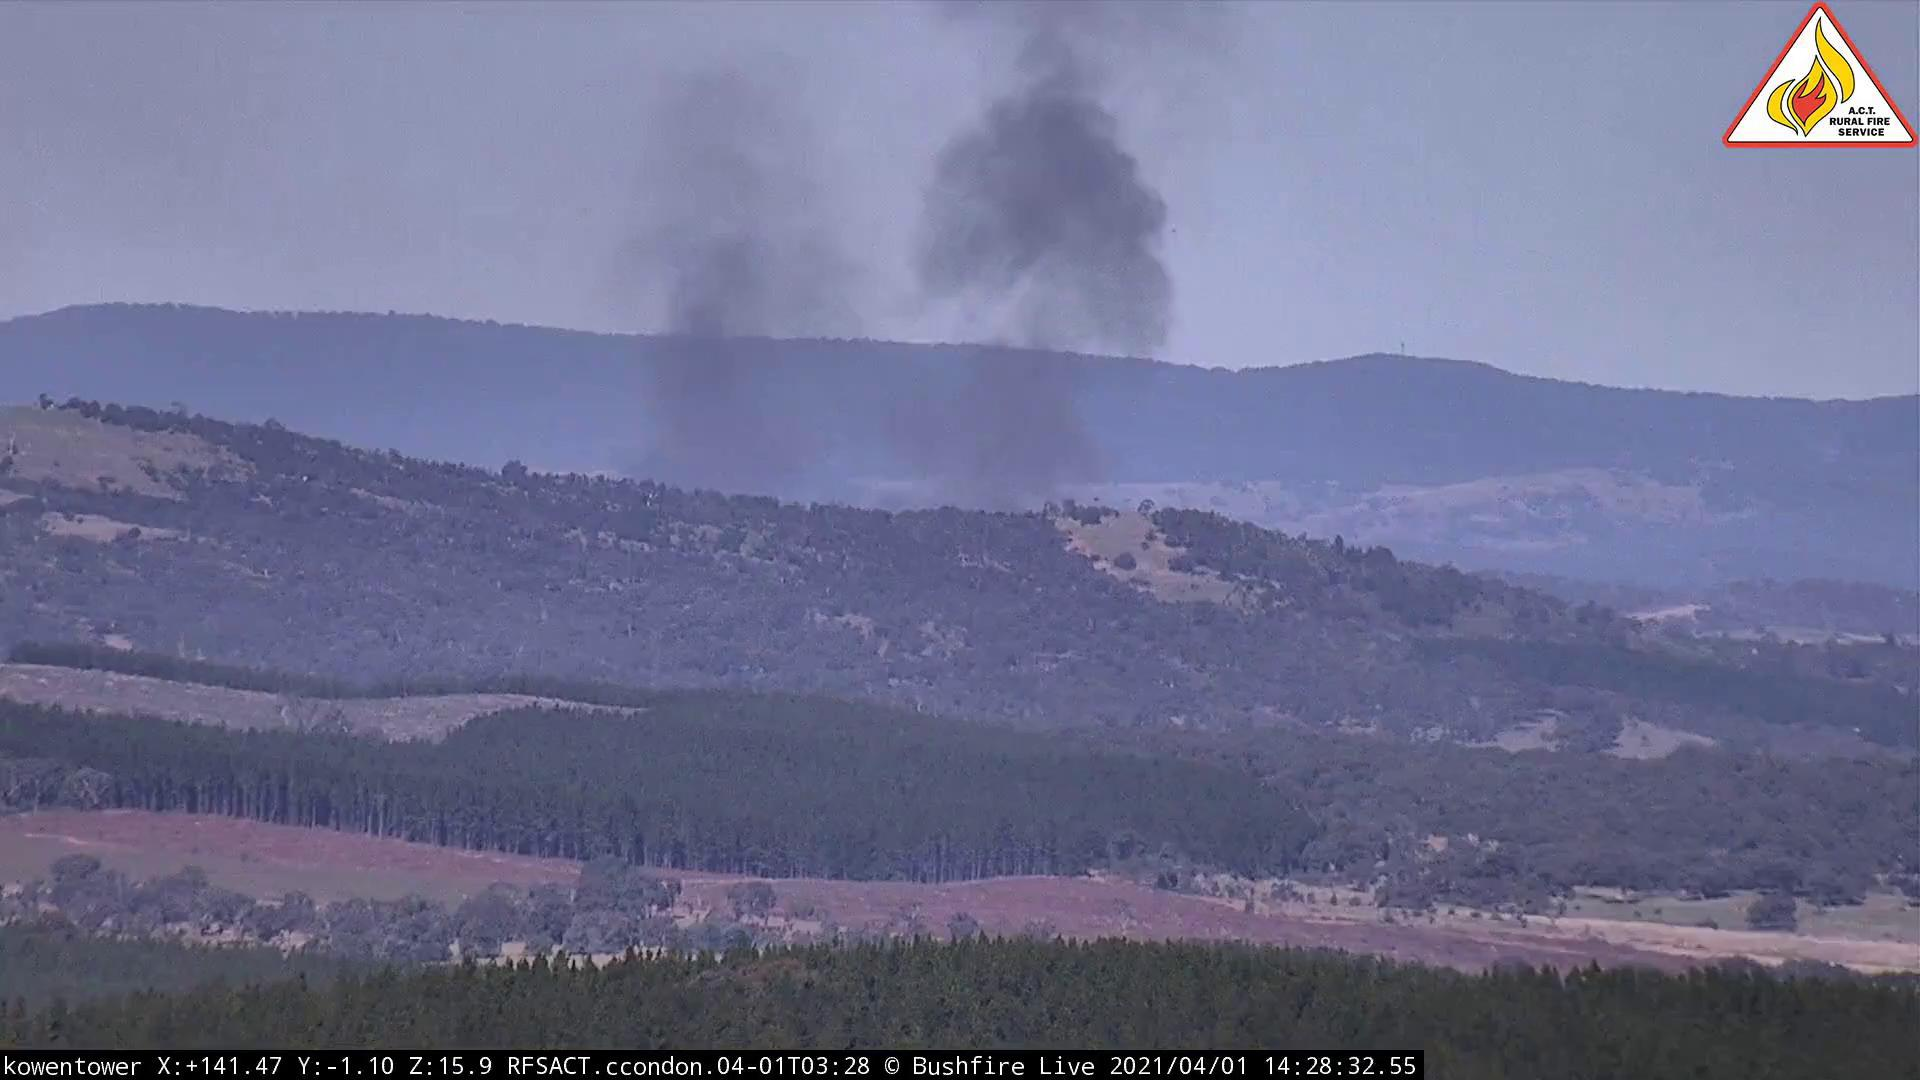Smoke: (891, 3, 1195, 520), (615, 71, 873, 530)
